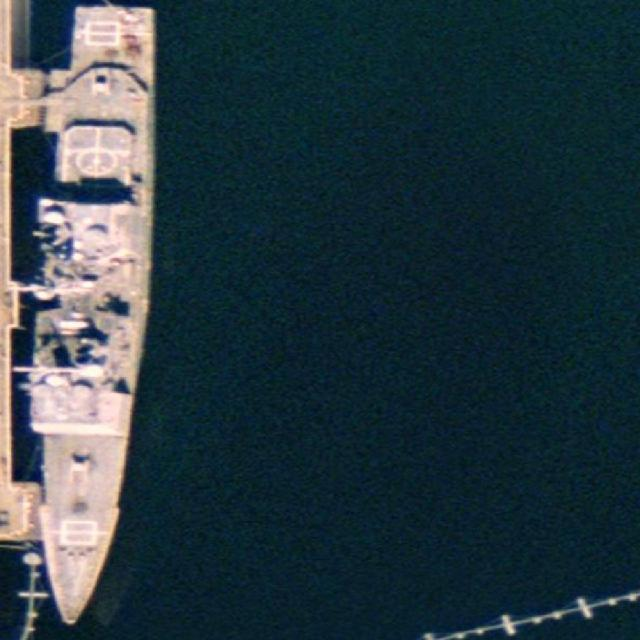Cruiser: (34, 3, 165, 627)
